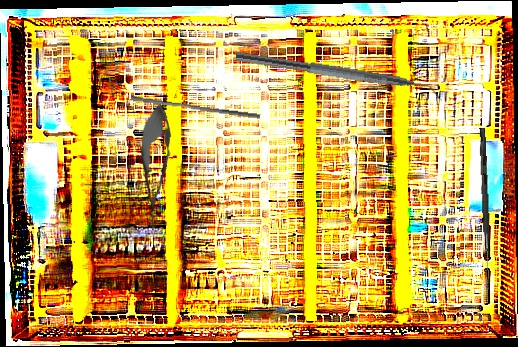Chopper: (233, 51, 445, 105)
Hook Surgical: (478, 127, 493, 280)
Micro Scissor: (135, 102, 175, 229)
Pusher: (129, 95, 262, 119)
